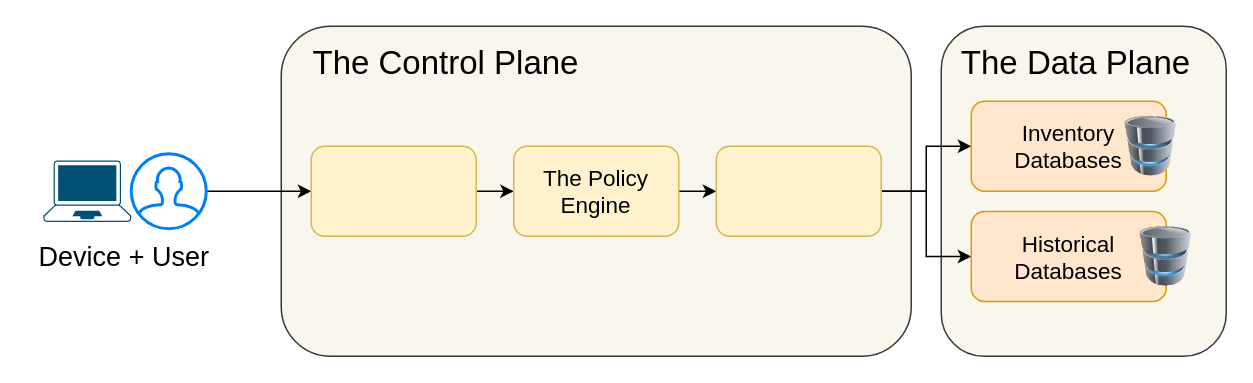
Some shapes in this 1253 by 383 pixel diagram are drawn without their labels. The centre of each missing label's shape, as x and y in pixels:
"The Enforcer" belongs at [393,190].
"The Trust Engine" belongs at [798,190].
